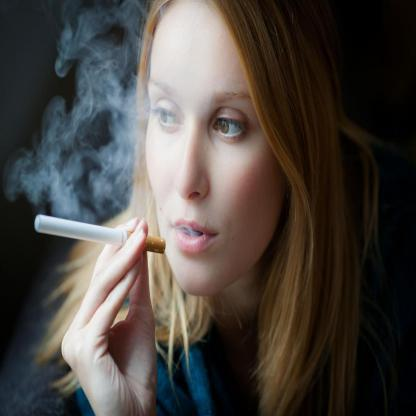cigarette: (32, 213, 168, 258)
person: (124, 0, 367, 415)
smoke: (2, 88, 135, 210), (54, 0, 143, 92)
